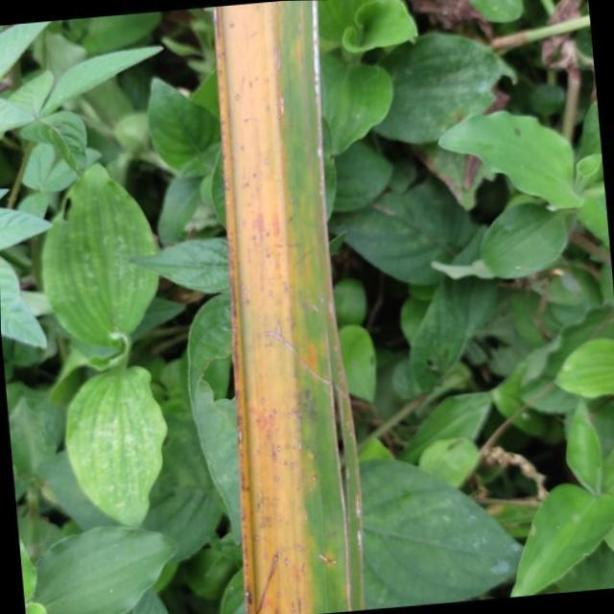Megnesium: (214, 0, 368, 614)
